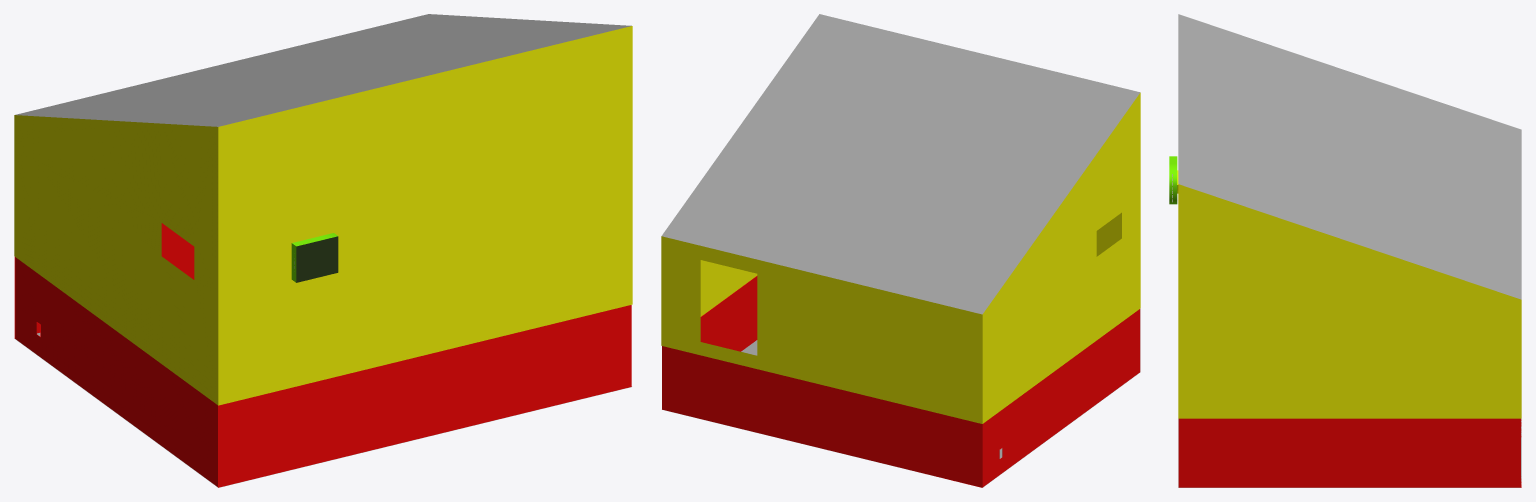
Rendered from Room_Pieces_01.fbx.
The picture shows the model from 3 angles, left to right: view 1: azimuth 30°, elevation 25°; view 2: azimuth 150°, elevation 25°; view 3: azimuth 270°, elevation 25°; orthographic projection. The views are drawn at different scales.
Parts seen in each view (by area): view 1: Wall_Back, Wall_Exits, Ceiling, Wall_Window; view 2: Ceiling, Wall_Window, Wall_Exits, Wall_1, Wall_Back; view 3: Wall_1, Ceiling, Floor, Wall_Back.
Part boxes in pixels (bbox=[...]): Wall_Back: bbox=[218, 26, 632, 487]; Wall_Exits: bbox=[14, 115, 218, 486]; Ceiling: bbox=[15, 14, 631, 126]; Wall_Window: bbox=[14, 223, 194, 338]; Ceiling: bbox=[661, 14, 1140, 314]; Wall_Window: bbox=[661, 236, 982, 487]; Wall_Exits: bbox=[982, 92, 1140, 486]; Wall_1: bbox=[700, 260, 757, 351]; Wall_Back: bbox=[1096, 212, 1140, 371]; Wall_1: bbox=[1178, 184, 1521, 487]; Ceiling: bbox=[1178, 14, 1521, 299]; Floor: bbox=[1178, 418, 1521, 487]; Wall_Back: bbox=[1169, 156, 1178, 204].
Bounding box in the file's own units: 209 × 174 × 183.
